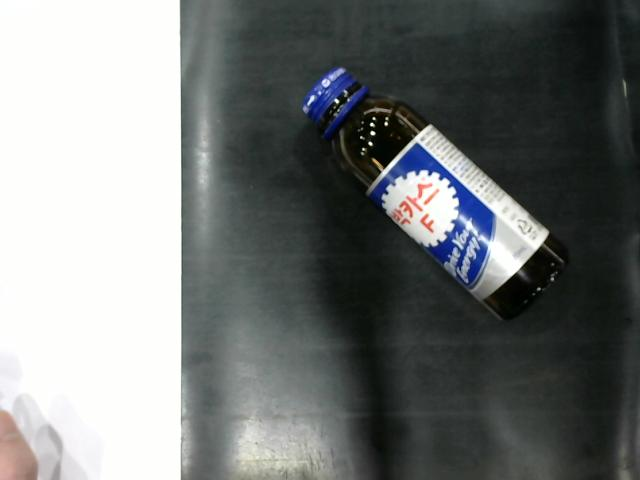glass: (286, 65, 594, 359)
